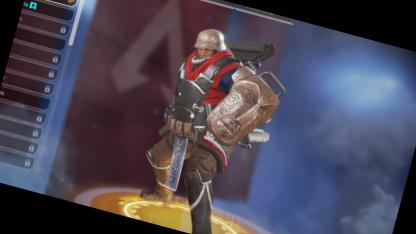Target: (142, 18, 288, 207)
